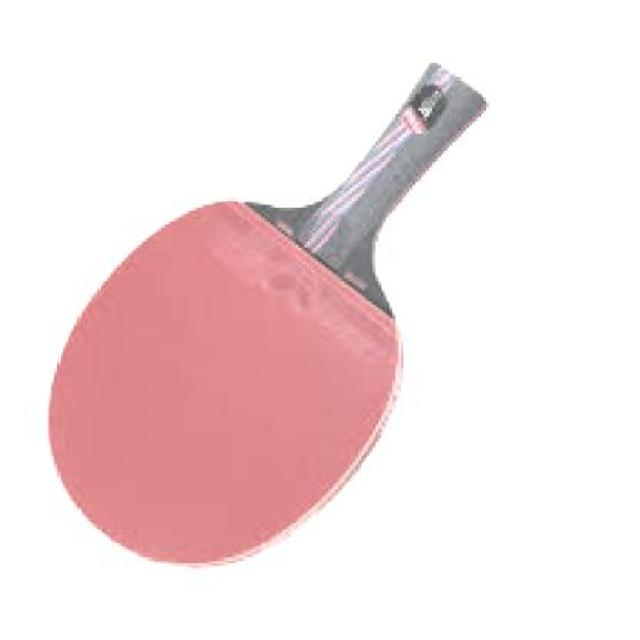table_tennis_racket: (47, 192, 413, 565)
